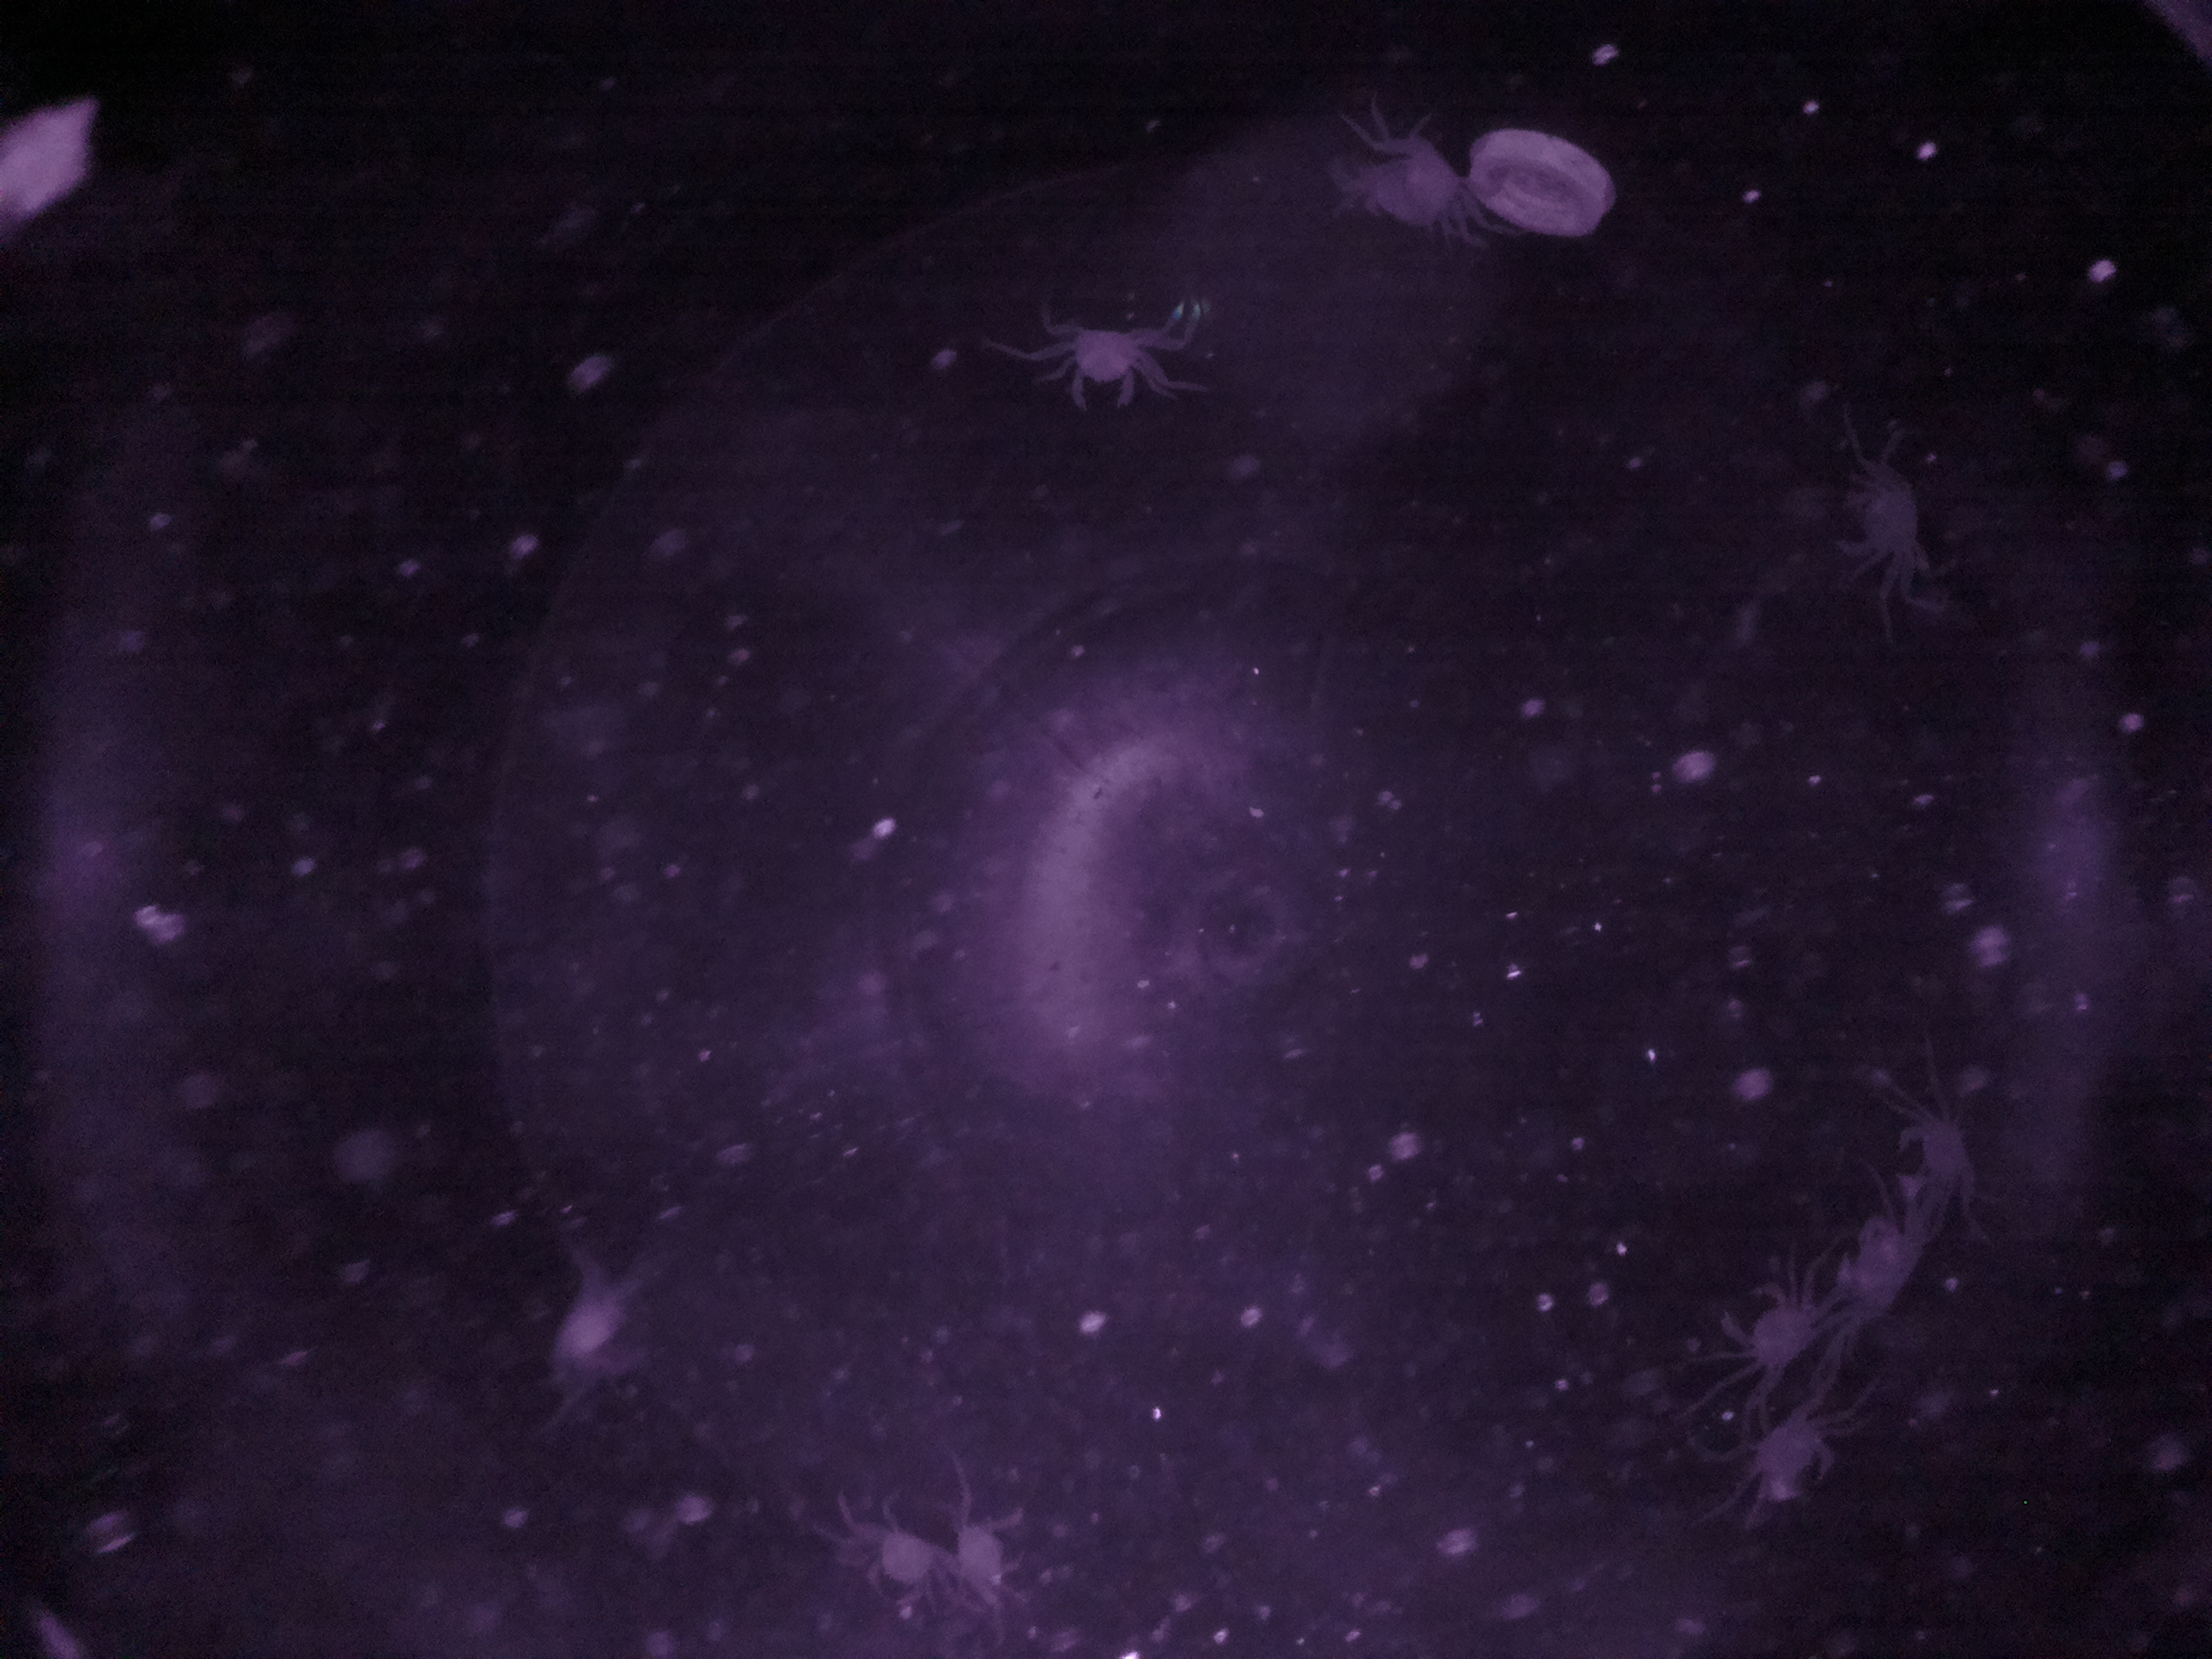Crab: (1733, 1399, 1858, 1527), (1707, 1255, 1829, 1385), (1815, 474, 1947, 575), (1879, 1103, 1993, 1220), (1383, 115, 1479, 246), (1825, 1206, 1925, 1323), (1057, 305, 1155, 420)
